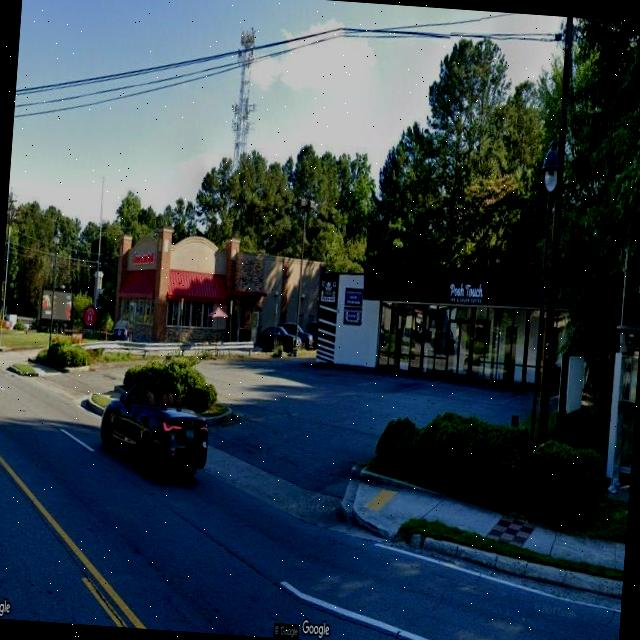shelter: (601, 320, 640, 493)
